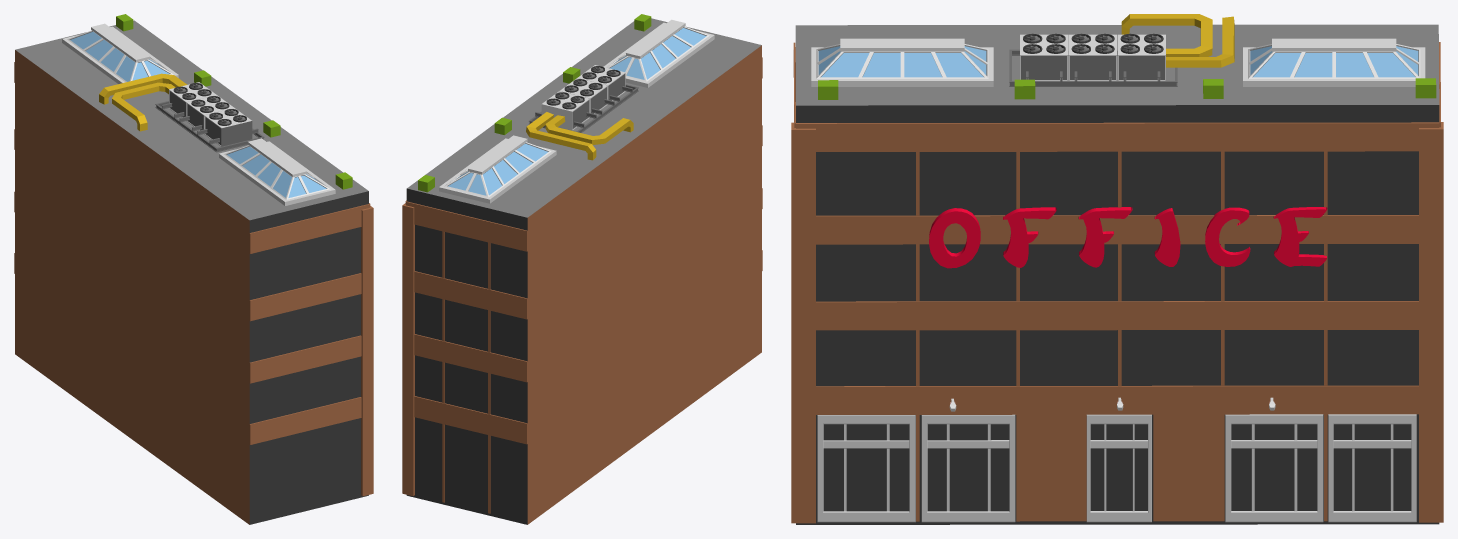
Rendered from Office_tran.glb.
The picture shows the model from 3 angles, left to right: view 1: azimuth 30°, elevation 25°; view 2: azimuth 150°, elevation 25°; view 3: azimuth 270°, elevation 25°; orthographic projection. The views are drawn at different scales.
Visible parts, largest first — view 1: Air conditioning.008, Cube_1_3_13.001, Ventilation_1.001, Ventilation_1.000; view 2: Air conditioning.008, Cube_1_3_13.001, Ventilation_1.000, Ventilation_1.001; view 3: Air conditioning.008, London Police Service Headquarters, 601 Dundas St, London, . (×5), Cube_1_3_13.001, Text.002, Ventilation_1.000, Ventilation_1.001.
Boxes of the visible parts, box(x1,y1,x2,y2) form: Air conditioning.008: box(14, 14, 373, 524); Cube_1_3_13.001: box(99, 73, 264, 152); Ventilation_1.001: box(219, 138, 335, 205); Ventilation_1.000: box(62, 23, 178, 83); Air conditioning.008: box(402, 14, 762, 524); Cube_1_3_13.001: box(526, 65, 638, 160); Ventilation_1.000: box(439, 135, 556, 203); Ventilation_1.001: box(603, 19, 714, 87); Air conditioning.008: box(791, 24, 1443, 524); London Police Service Headquarters, 601 Dundas St, London, . (×5): box(817, 414, 1416, 522); Cube_1_3_13.001: box(1009, 14, 1234, 86); Text.002: box(929, 207, 1327, 268); Ventilation_1.000: box(1243, 38, 1425, 86); Ventilation_1.001: box(811, 38, 993, 86).
Bounding box in the file's own units: 0.2678 × 0.5981 × 0.7898.
